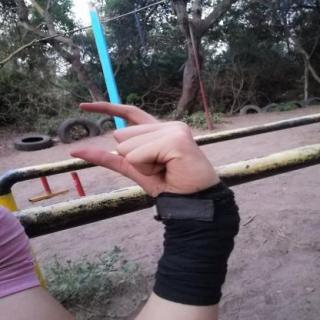DELL: (60, 94, 234, 210)
